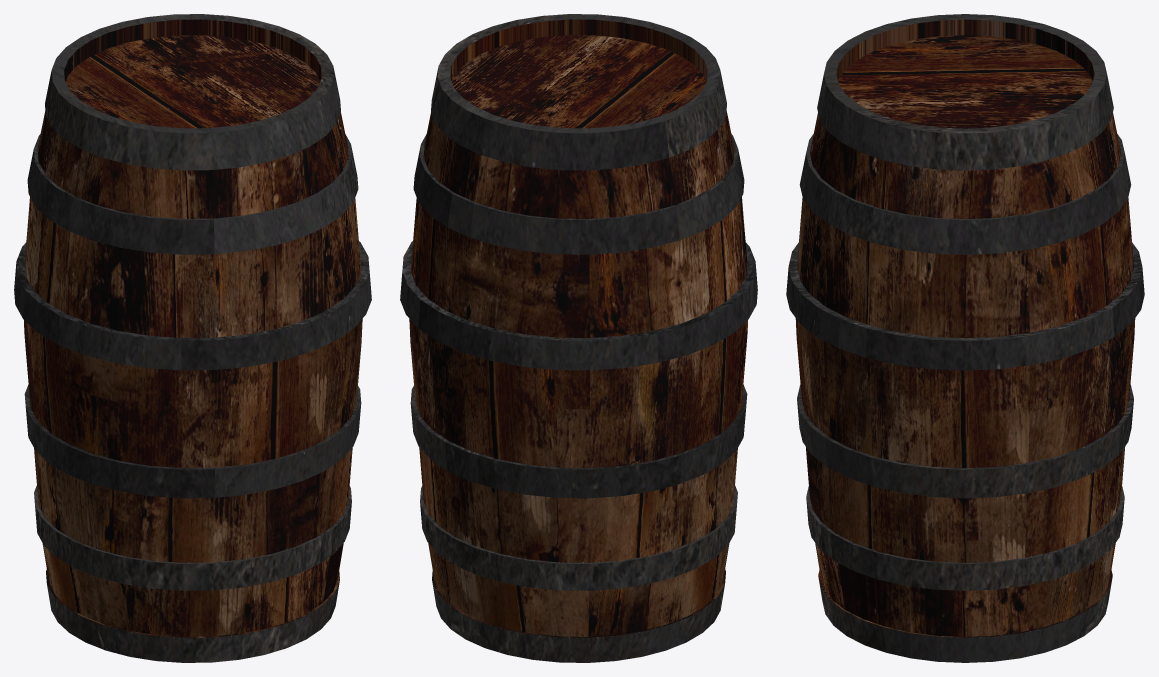
Rendered from barrel.glb.
3 views of the same model, side by side, from view 1: azimuth 30°, elevation 25°; view 2: azimuth 150°, elevation 25°; view 3: azimuth 270°, elevation 25° (orthographic).
Parts seen in each view (by area): view 1: Cylinder; view 2: Cylinder; view 3: Cylinder.
Boxes of the visible parts, x1,y1,x2,y2 form: Cylinder: (14,14,371,662); Cylinder: (400,14,757,662); Cylinder: (786,14,1144,662).
Size of the model in its own units: 53.27 by 86.71 by 53.27.
2 materials, 2 textured.
